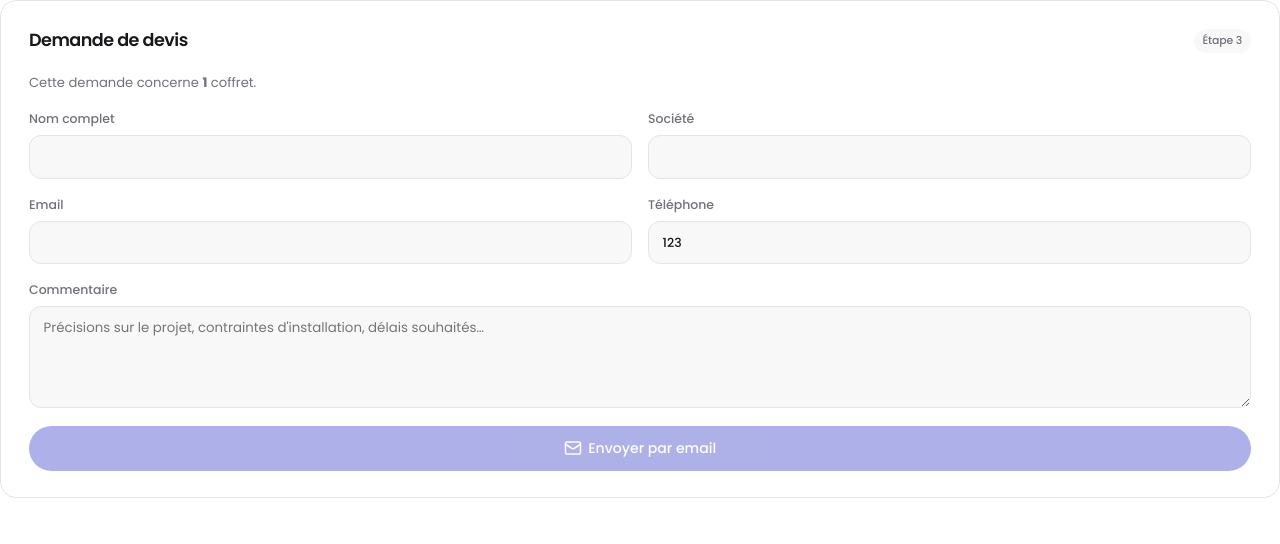
Scenario: ContactForm › affiche une erreur téléphone après blur sur un numéro trop court
This screenshot has width=1280, height=544.
Click the field labelled "Téléphone" at point(950, 242), box top-left (648, 220), bottom-right (1251, 264)
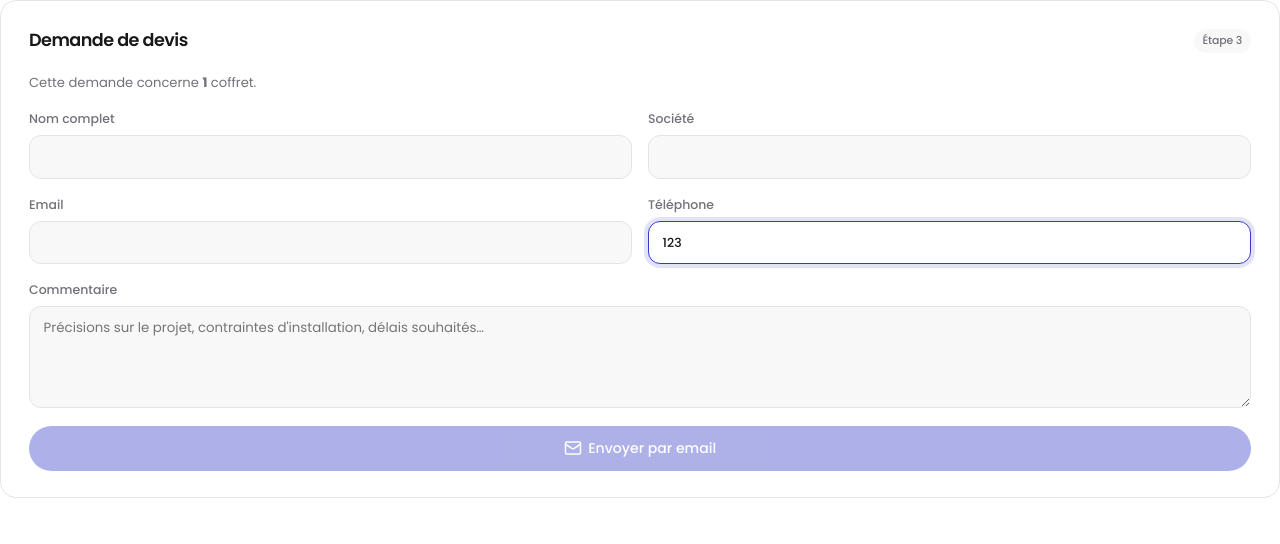
Press Tab
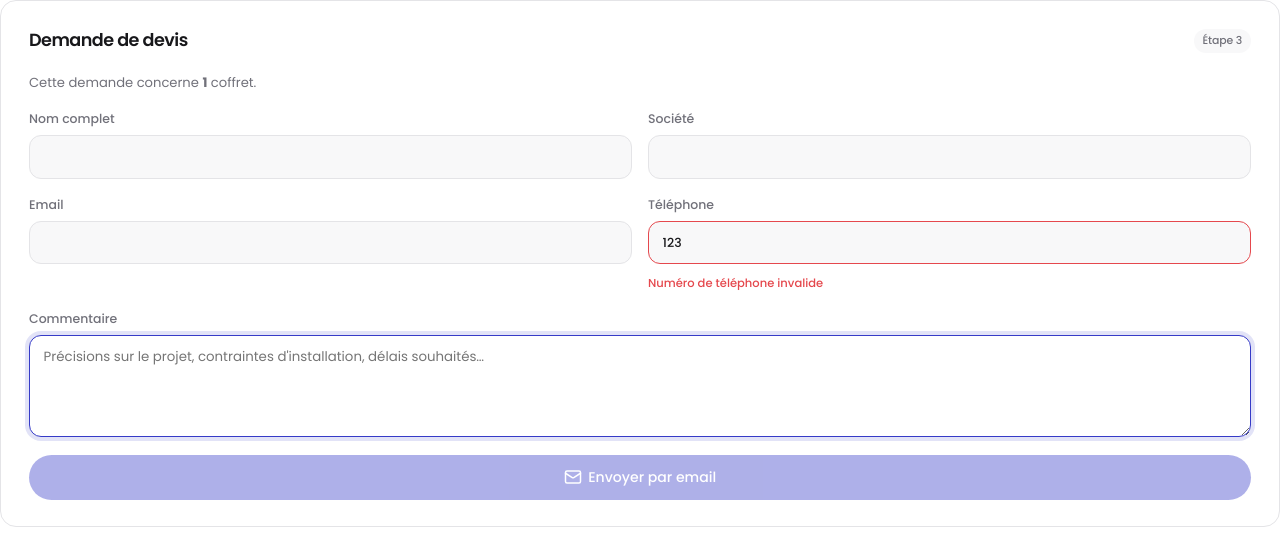
Now the text "Numéro de téléphone invalide" is shown, box top-left (648, 275), bottom-right (823, 291)
